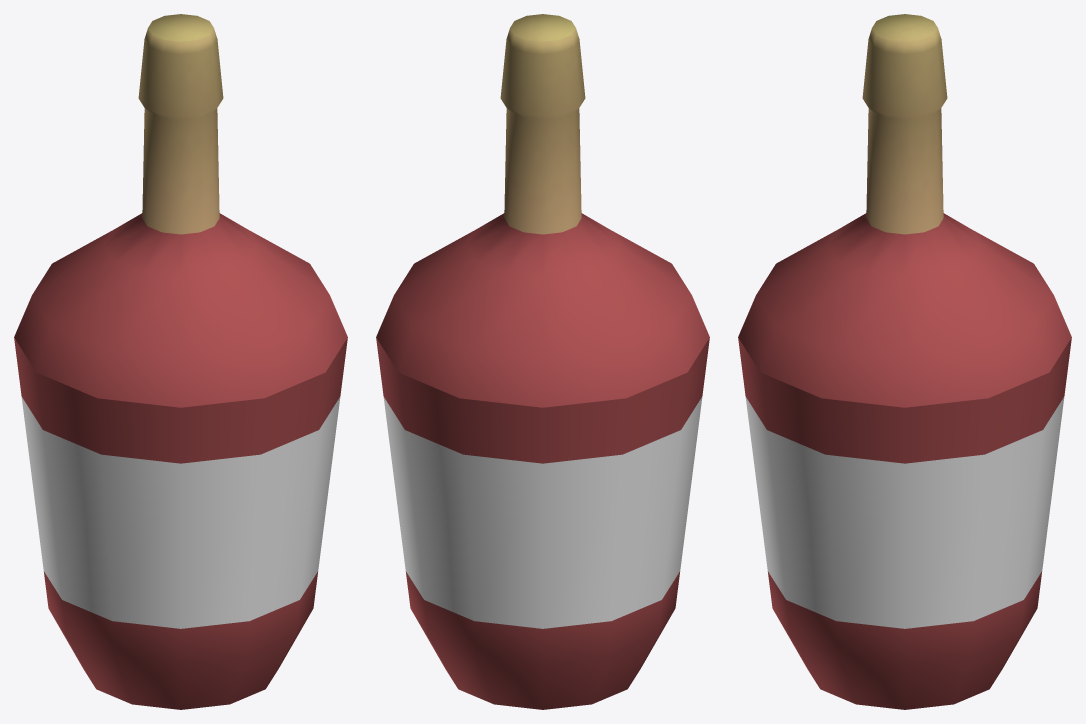
File: bottle4.fbx
3 views of the same model, side by side, from view 1: azimuth 30°, elevation 25°; view 2: azimuth 150°, elevation 25°; view 3: azimuth 270°, elevation 25° (orthographic).
Visible parts, largest first — view 1: bottle4; view 2: bottle4; view 3: bottle4.
Part boxes in pixels (x1=…): bottle4: x1=14, y1=14, x2=347, y2=709; bottle4: x1=376, y1=14, x2=709, y2=709; bottle4: x1=738, y1=14, x2=1071, y2=709.
Bounding box in the file's own units: 12.15 × 25.73 × 12.15.
